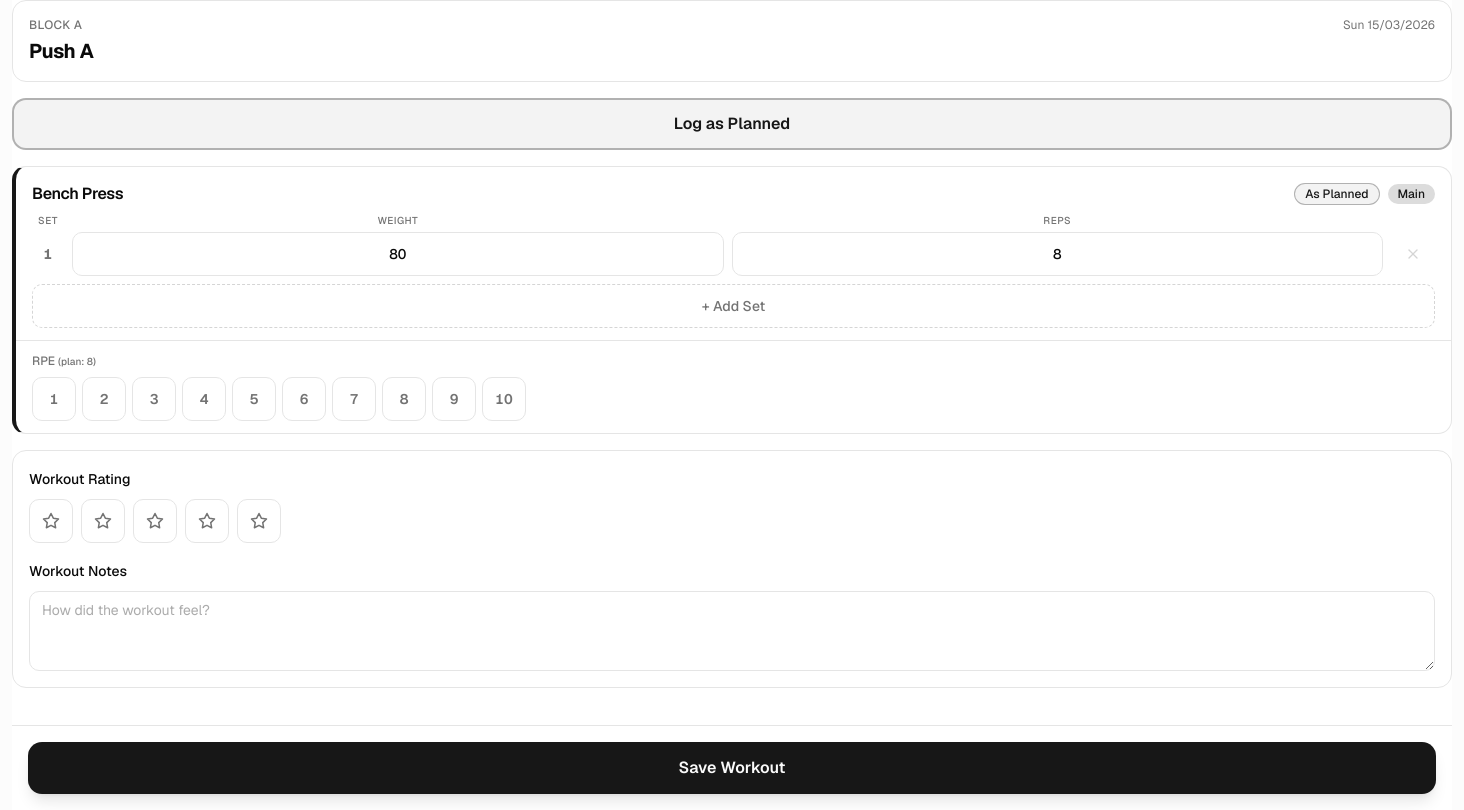
Test: T135 — numeric input migration: workout-logging-form › reps input rejects letters and decimals, keeps only digits
This screenshot has width=1464, height=810.
Clear the field with test id "reps-input-0-0" at (1057, 254), box [732, 232, 1383, 276]
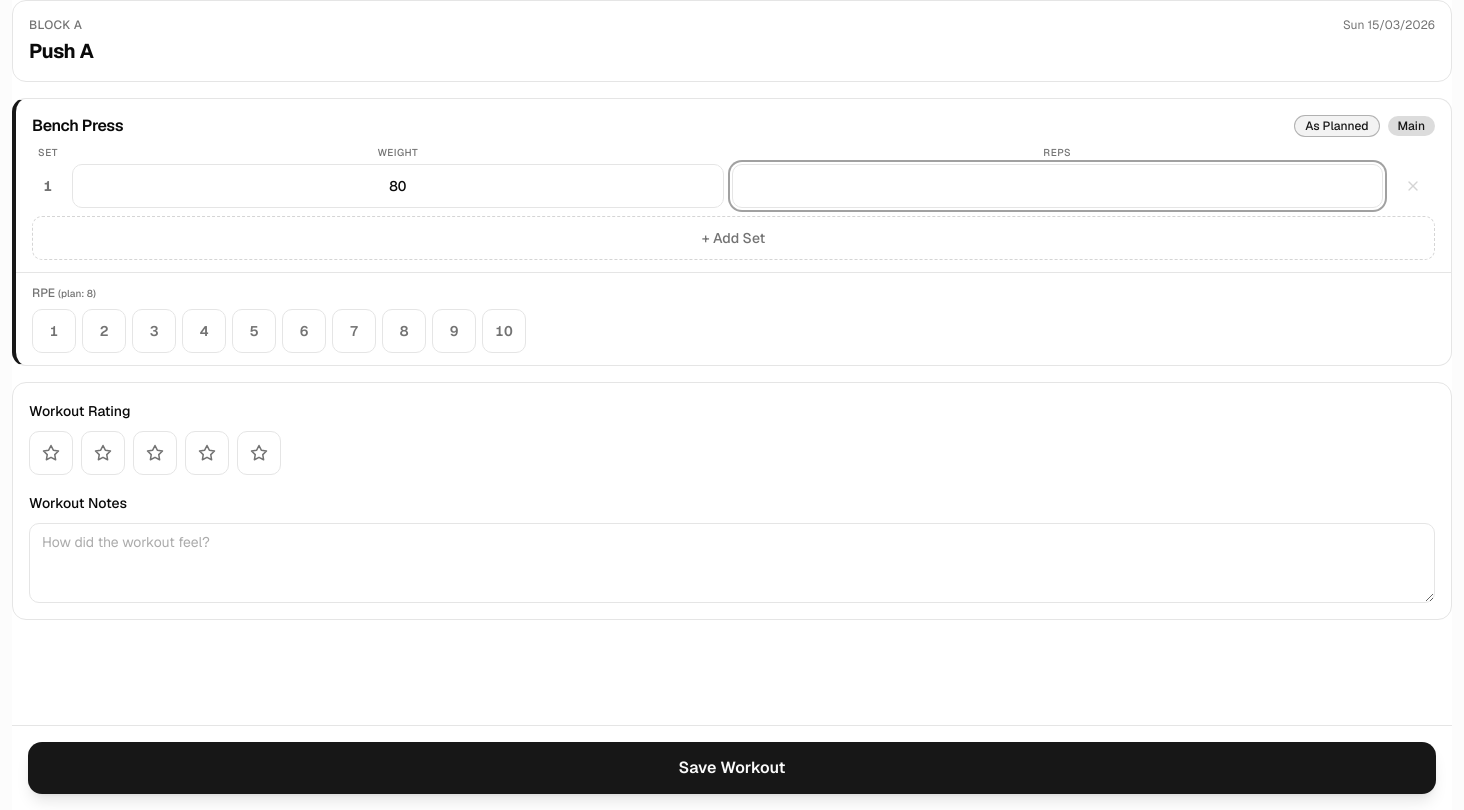
Type "1a2.3" into the field with test id "reps-input-0-0" at (1057, 186), box [732, 164, 1383, 208]
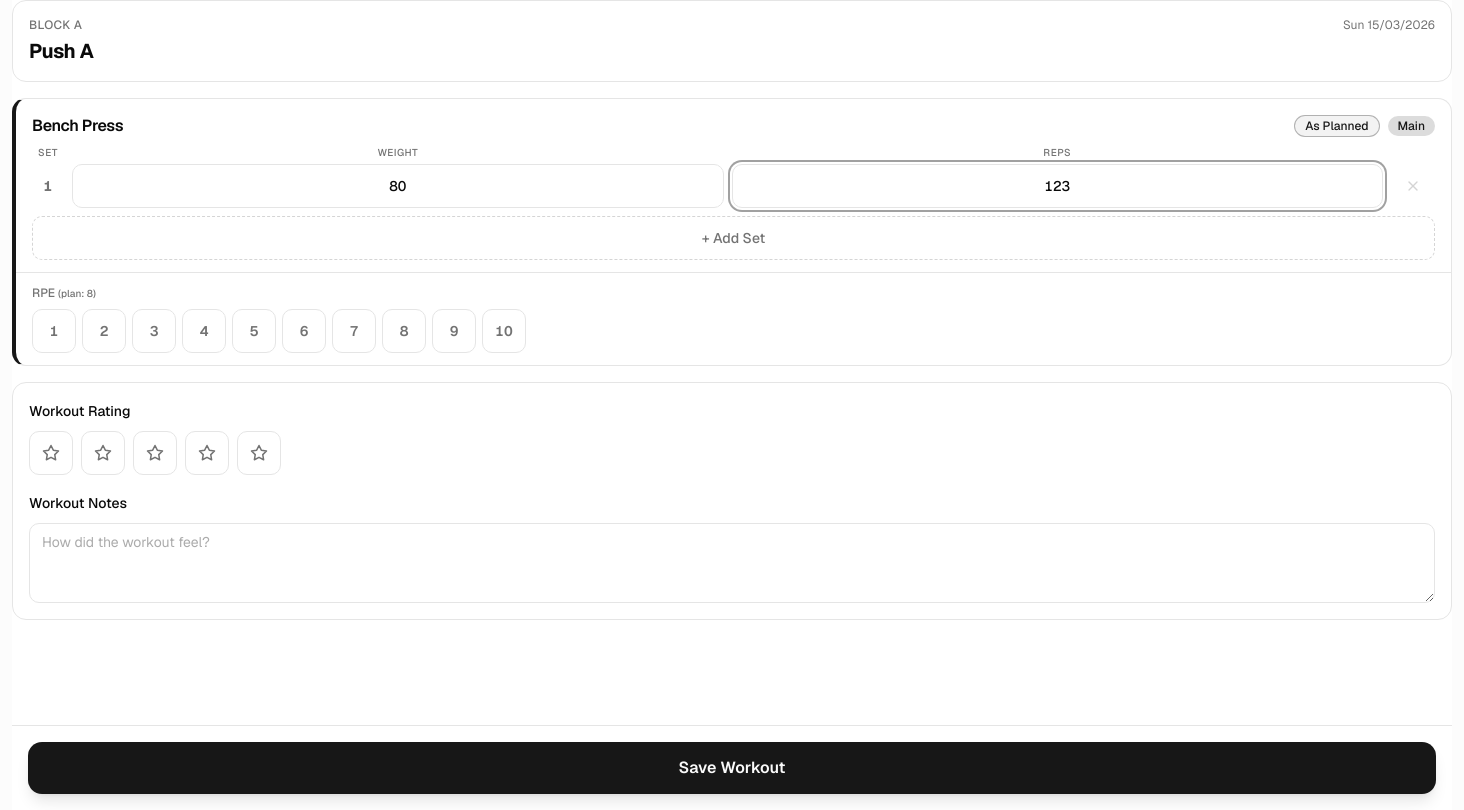
Result: the field with test id "reps-input-0-0" holds "123" at [732, 164, 1383, 208]
